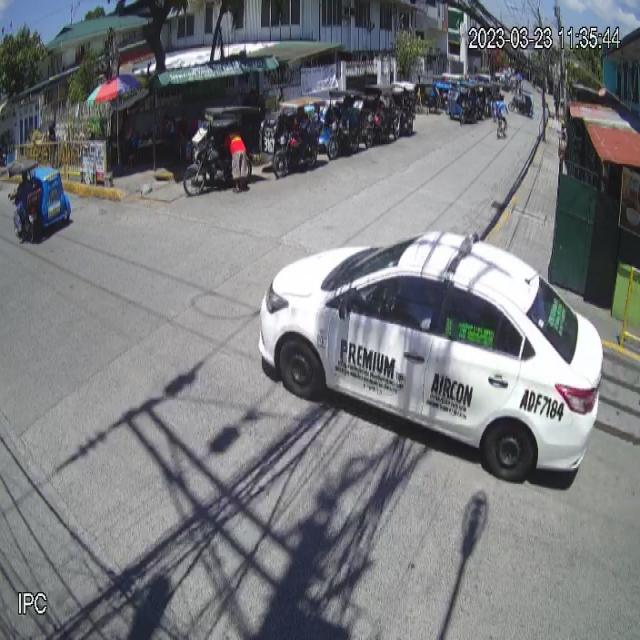Car: (258, 228, 604, 486)
Tricycle: (7, 158, 71, 244)
